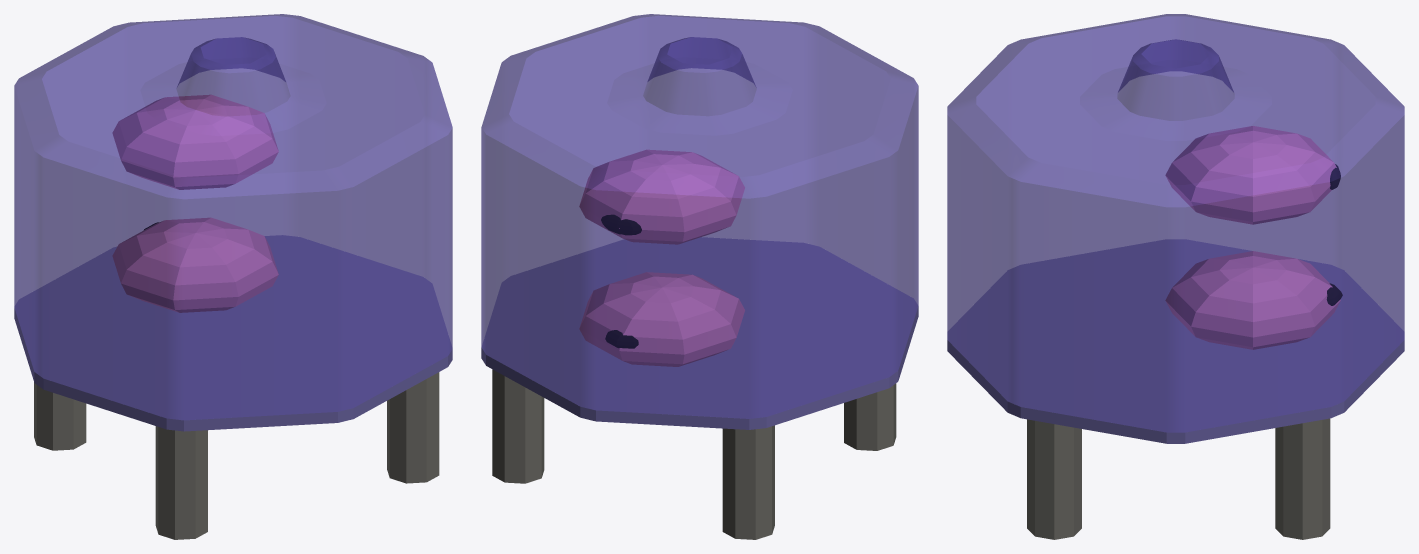
File: explosive.fbx
3 renders of one model, left to right at view 1: azimuth 30°, elevation 25°; view 2: azimuth 150°, elevation 25°; view 3: azimuth 270°, elevation 25°, orthographic. The views are drawn at different scales.
Visible parts, largest first — view 1: explosive; view 2: explosive; view 3: explosive.
Boxes of the visible parts, box(x1,y1,x2,y2) form: explosive: box(14, 14, 452, 539); explosive: box(481, 14, 918, 539); explosive: box(947, 14, 1404, 539).
Bounding box in the file's own units: 100 × 100 × 100.
